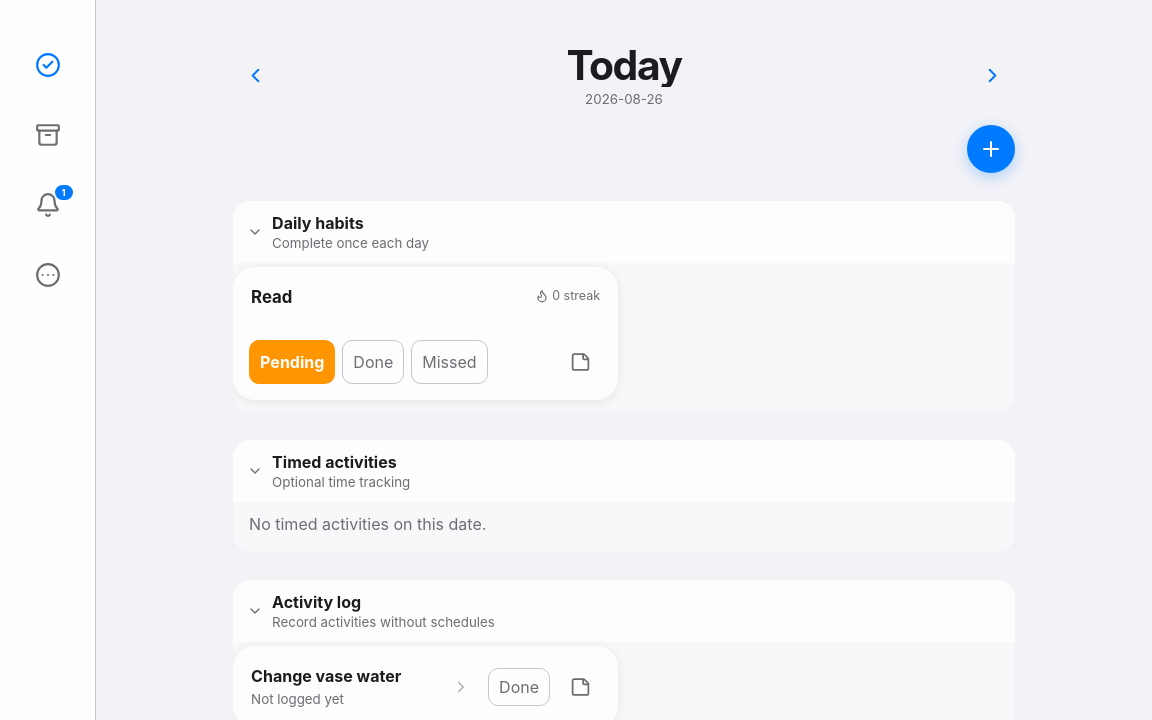
Test: Habit Tracker › replaces the activity-log title with its focused editor
The width and height of the screenshot is (1152, 720).
What coordinates should you click on to do the following:
click the button with aria-label "Open Change vase water"
I would click on:
 (361, 687)
Its box is [249,662,472,711].
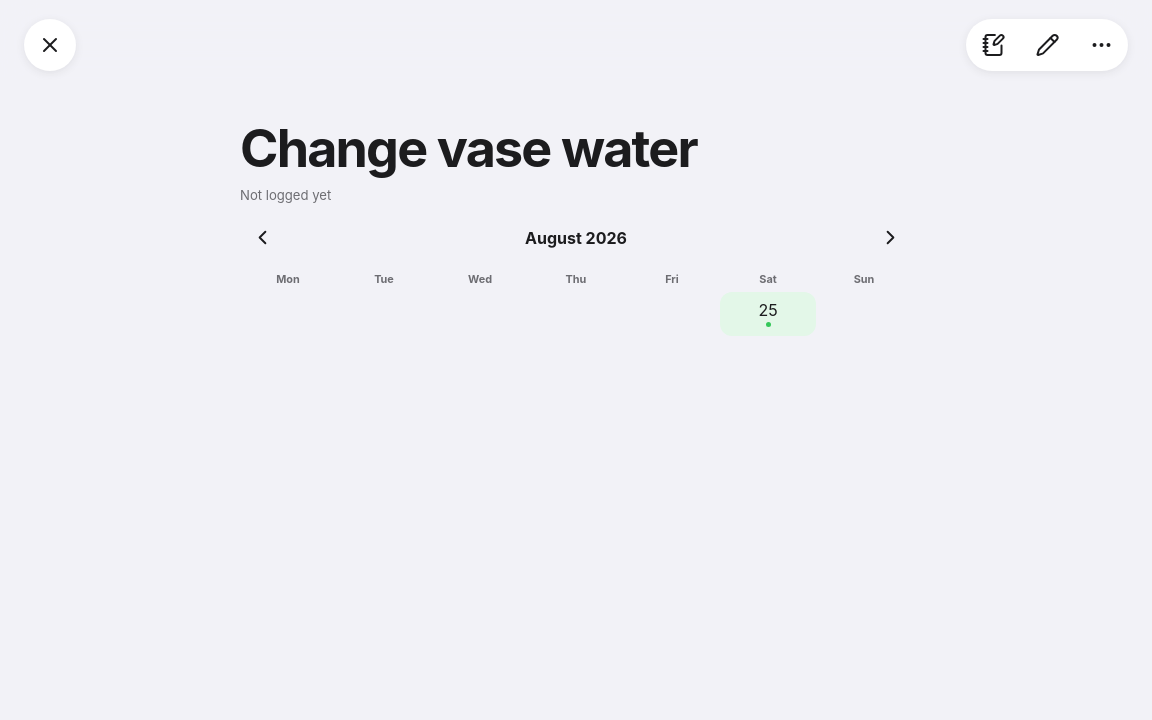
What coordinates should you click on to do the following:
click the button named "Edit activity log"
I would click on:
 (1047, 45)
Its box is [1020,19,1074,71].
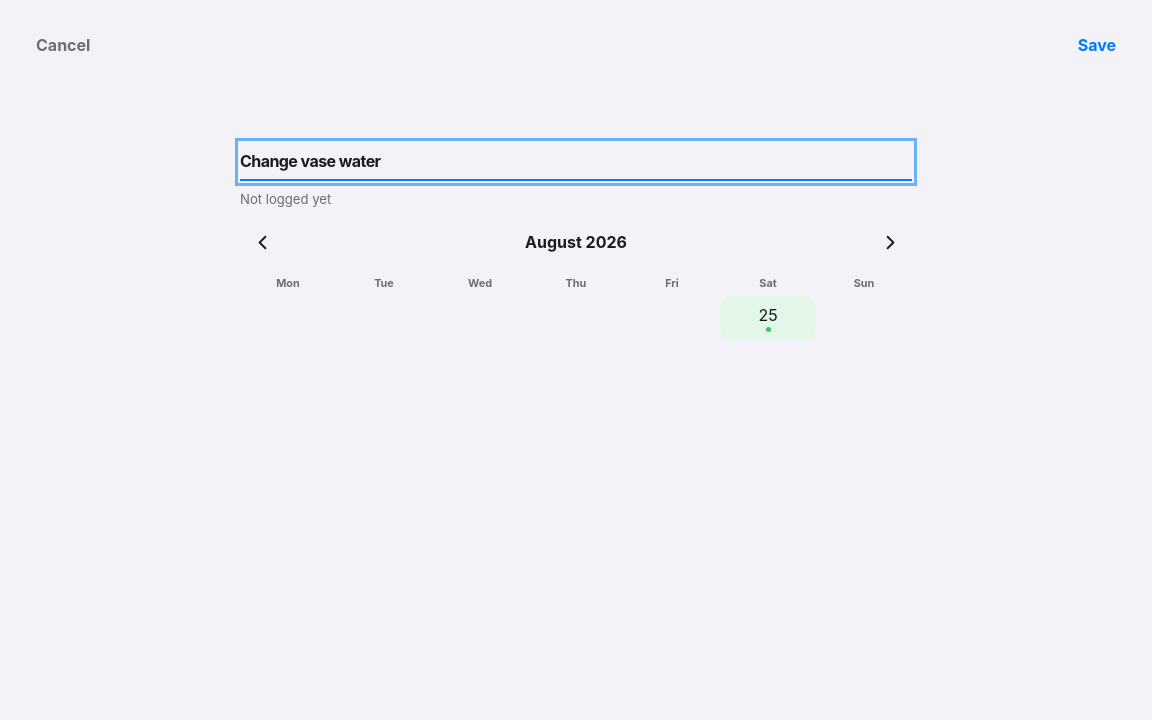
Now the heading named "Activity name" is shown, box [240,122,912,181]
Now the field named "Activity name" holds "Change vase water", box [240,143,912,181]
